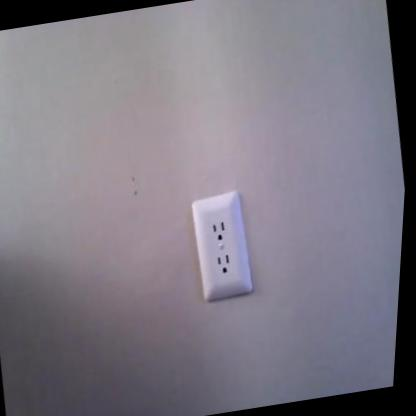OUTLET: (184, 190, 258, 298)
